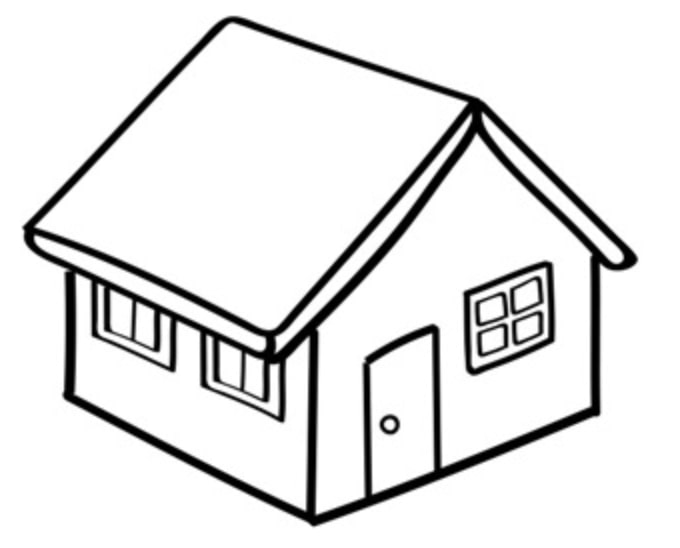House: (24, 6, 636, 529)
